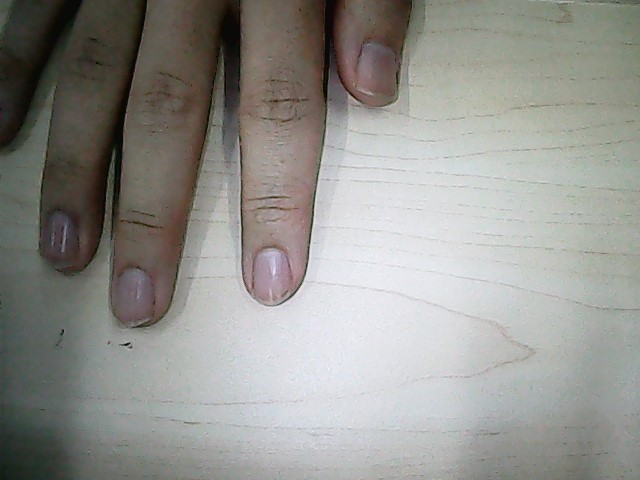nail: (356, 39, 400, 103), (251, 248, 292, 308), (115, 269, 151, 328), (45, 215, 78, 270)
